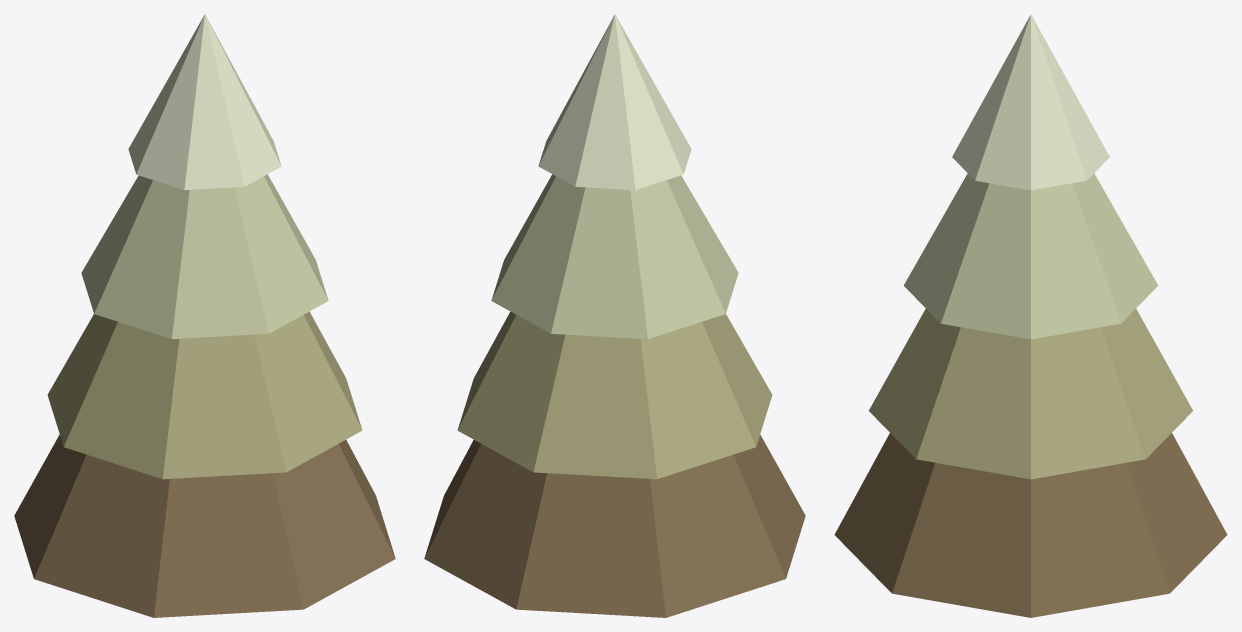
Rendered from 01_03Tree_Brown.fbx.
The picture shows the model from 3 angles, left to right: view 1: azimuth 30°, elevation 25°; view 2: azimuth 150°, elevation 25°; view 3: azimuth 270°, elevation 25°; orthographic projection.
Parts seen in each view (by area): view 1: Cone.001; view 2: Cone.001; view 3: Cone.001.
Part boxes in pixels (<box>): Cone.001: <box>14,14,395,617</box>; Cone.001: <box>424,14,805,617</box>; Cone.001: <box>834,14,1227,617</box>.
Bounding box in the file's own units: 133 × 195 × 133.
